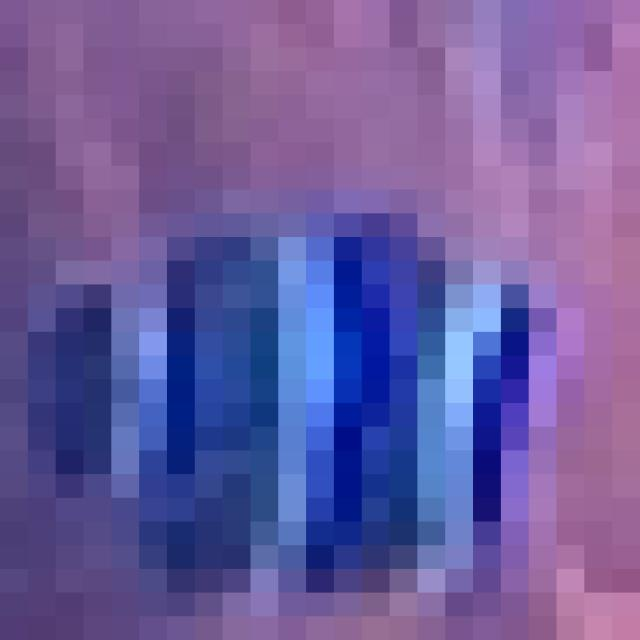fish: (0, 23, 612, 640)
